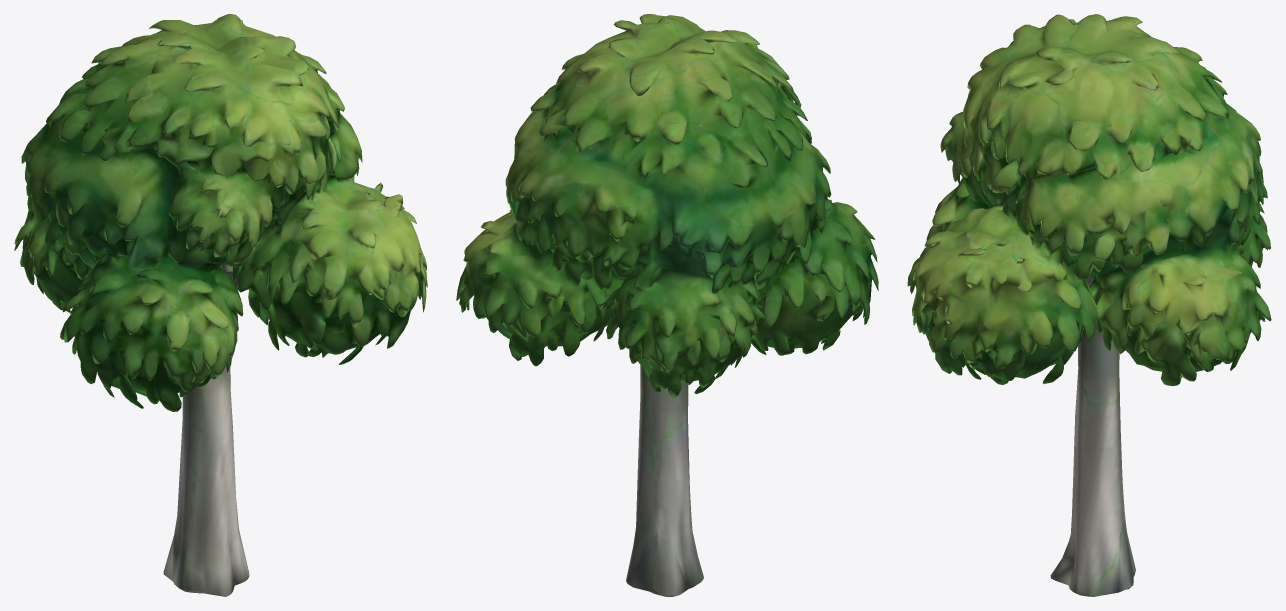
Rendered from beech.glb.
3 views of the same model, side by side, from view 1: azimuth 30°, elevation 25°; view 2: azimuth 150°, elevation 25°; view 3: azimuth 270°, elevation 25° (orthographic).
Bounding box in the file's own units: 1.19 × 1.9 × 1.15.
Materials: 1 (1 with a texture image).
